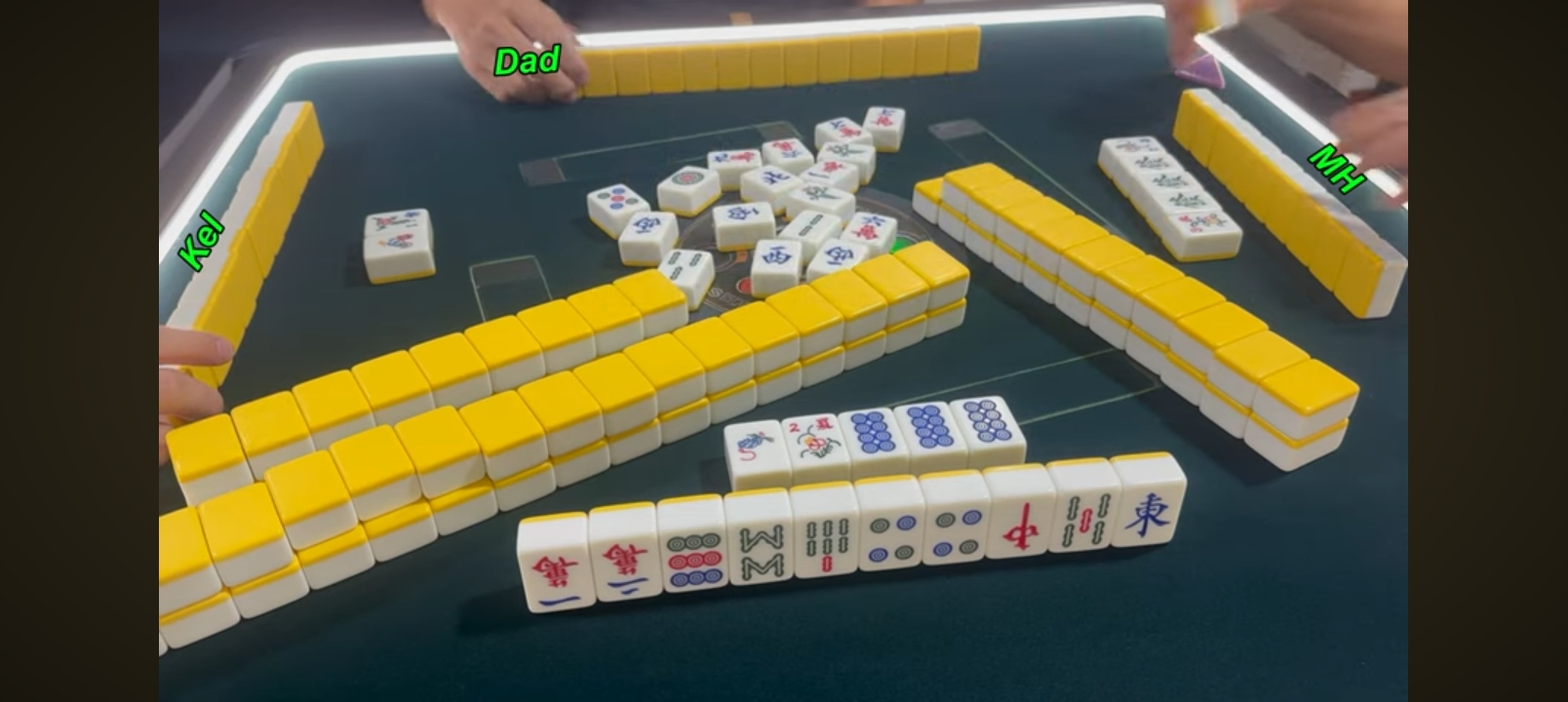TILE: (519, 548, 593, 610), (727, 520, 794, 583), (591, 539, 659, 601), (794, 515, 858, 579), (1055, 487, 1118, 551), (659, 529, 725, 590), (1120, 486, 1185, 546), (859, 509, 924, 568), (925, 504, 991, 561), (958, 397, 1031, 447), (992, 498, 1053, 557), (725, 420, 788, 472), (780, 415, 845, 464), (898, 403, 959, 451), (843, 409, 899, 459)
